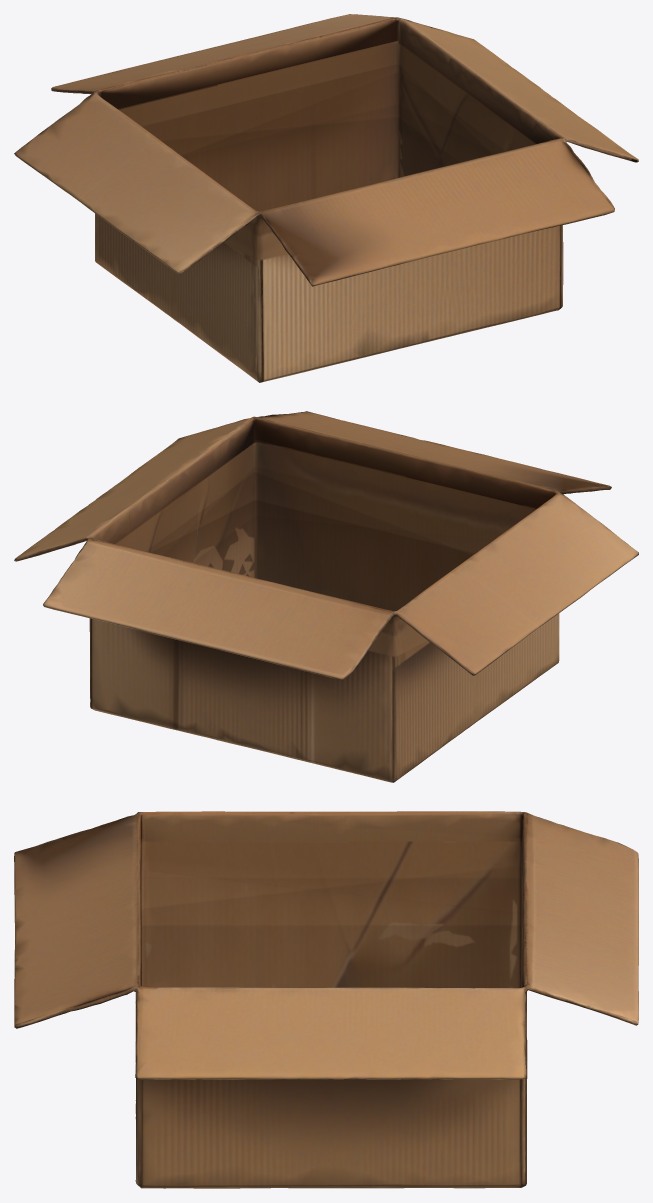
The model's file is 3dCarton.fbx.
3 renders of one model, top to bottom at view 1: azimuth 30°, elevation 25°; view 2: azimuth 150°, elevation 25°; view 3: azimuth 270°, elevation 25°, orthographic. The views are drawn at different scales.
Parts seen in each view (by area): view 1: Mesh1.0; view 2: Mesh1.0; view 3: Mesh1.0.
Part boxes in pixels (x1,y1,x2,y2): Mesh1.0: (14, 14, 638, 382); Mesh1.0: (14, 411, 638, 782); Mesh1.0: (14, 811, 638, 1188).
Size of the model in its own units: 201 by 72.29 by 201.
1 material, 1 textured.
